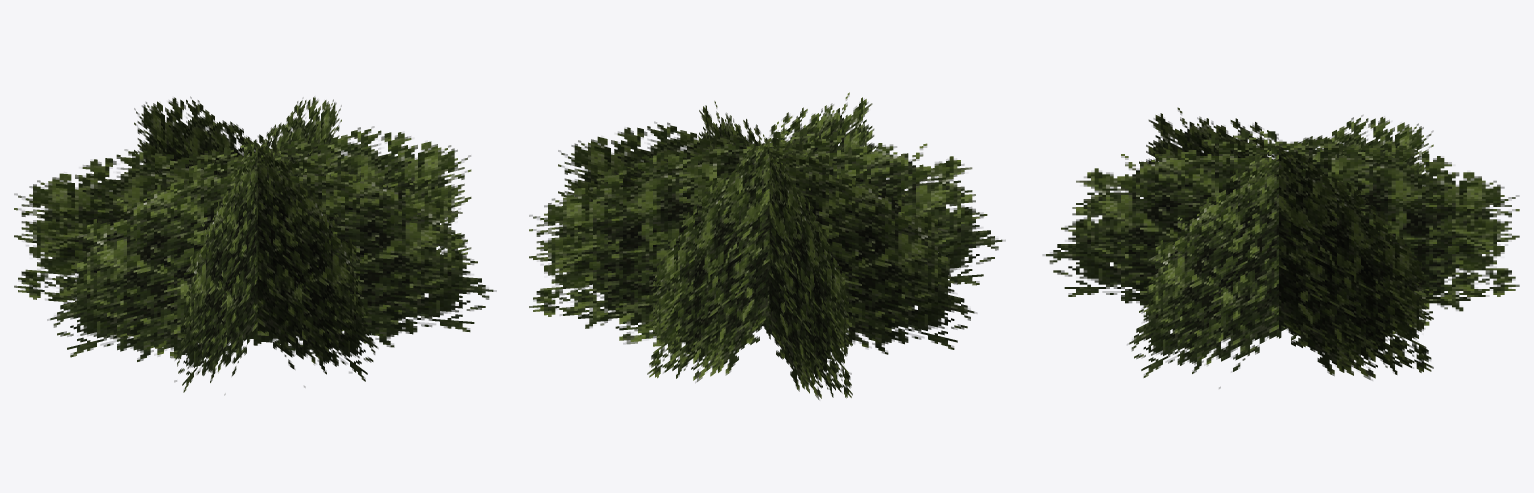
Rendered from bush.glb.
The picture shows the model from 3 angles, left to right: view 1: azimuth 30°, elevation 25°; view 2: azimuth 150°, elevation 25°; view 3: azimuth 270°, elevation 25°; orthographic projection. The views are drawn at different scales.
Visible parts, largest first — view 1: Plane.004, Plane.002, Plane.003, Plane.001; view 2: Plane.001, Plane.002, Plane.003, Plane.004; view 3: Plane.003, Plane.001, Plane.004.
Part boxes in pixels (left/top/right/bottom): Plane.004: left=14, top=146, right=496, bottom=373; Plane.002: left=47, top=126, right=471, bottom=382; Plane.003: left=134, top=96, right=378, bottom=387; Plane.001: left=175, top=96, right=341, bottom=395; Plane.001: left=529, top=127, right=1005, bottom=354; Plane.002: left=558, top=122, right=976, bottom=374; Plane.003: left=647, top=92, right=878, bottom=382; Plane.004: left=697, top=101, right=852, bottom=399; Plane.003: left=1043, top=129, right=1519, bottom=333; Plane.001: left=1139, top=107, right=1433, bottom=380; Plane.004: left=1127, top=115, right=1433, bottom=388.
Bounding box in the file's own units: 1 × 0.63 × 1.
Materials: 1 (1 with a texture image).
